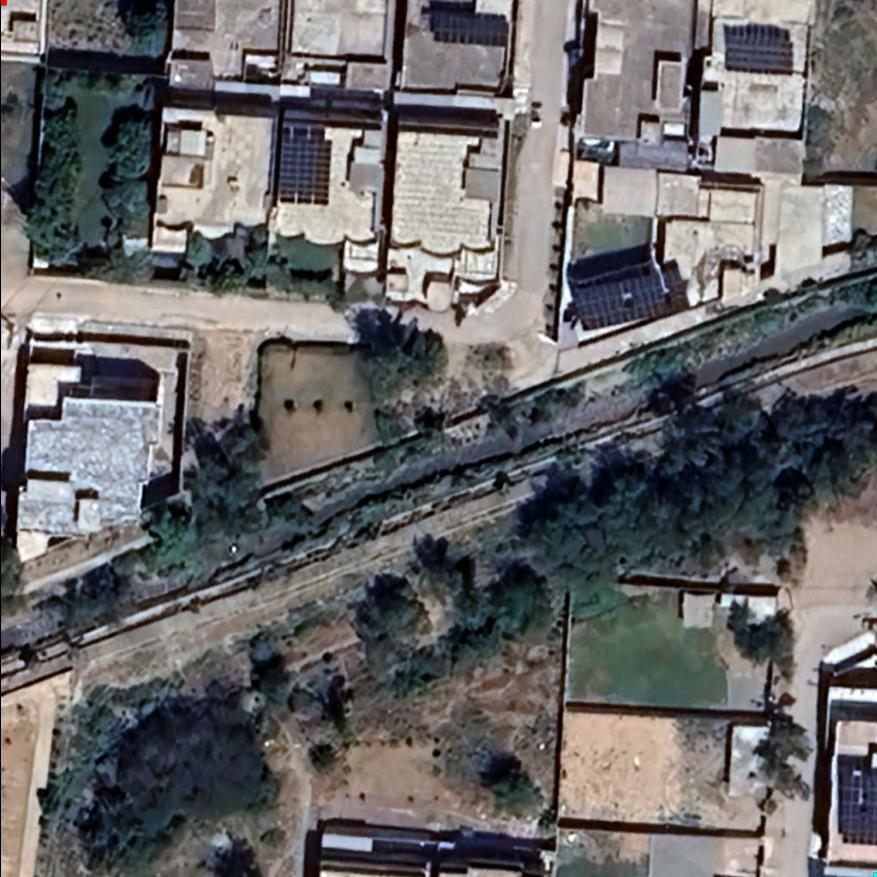Solarpanel: (560, 255, 681, 332), (272, 129, 336, 208), (834, 752, 876, 848), (420, 7, 516, 49), (717, 30, 798, 79)
